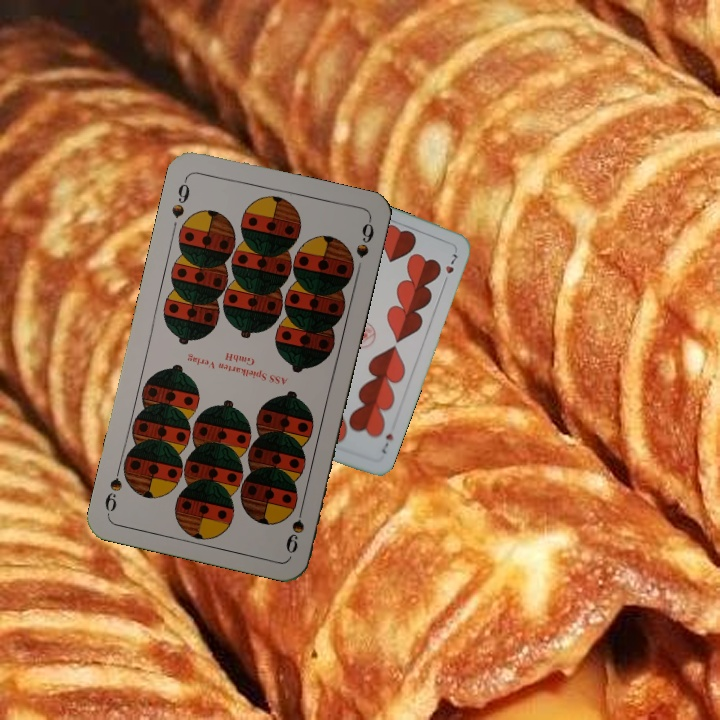H7: (377, 430, 396, 457)
S9: (282, 498, 307, 556), (167, 173, 193, 221)
